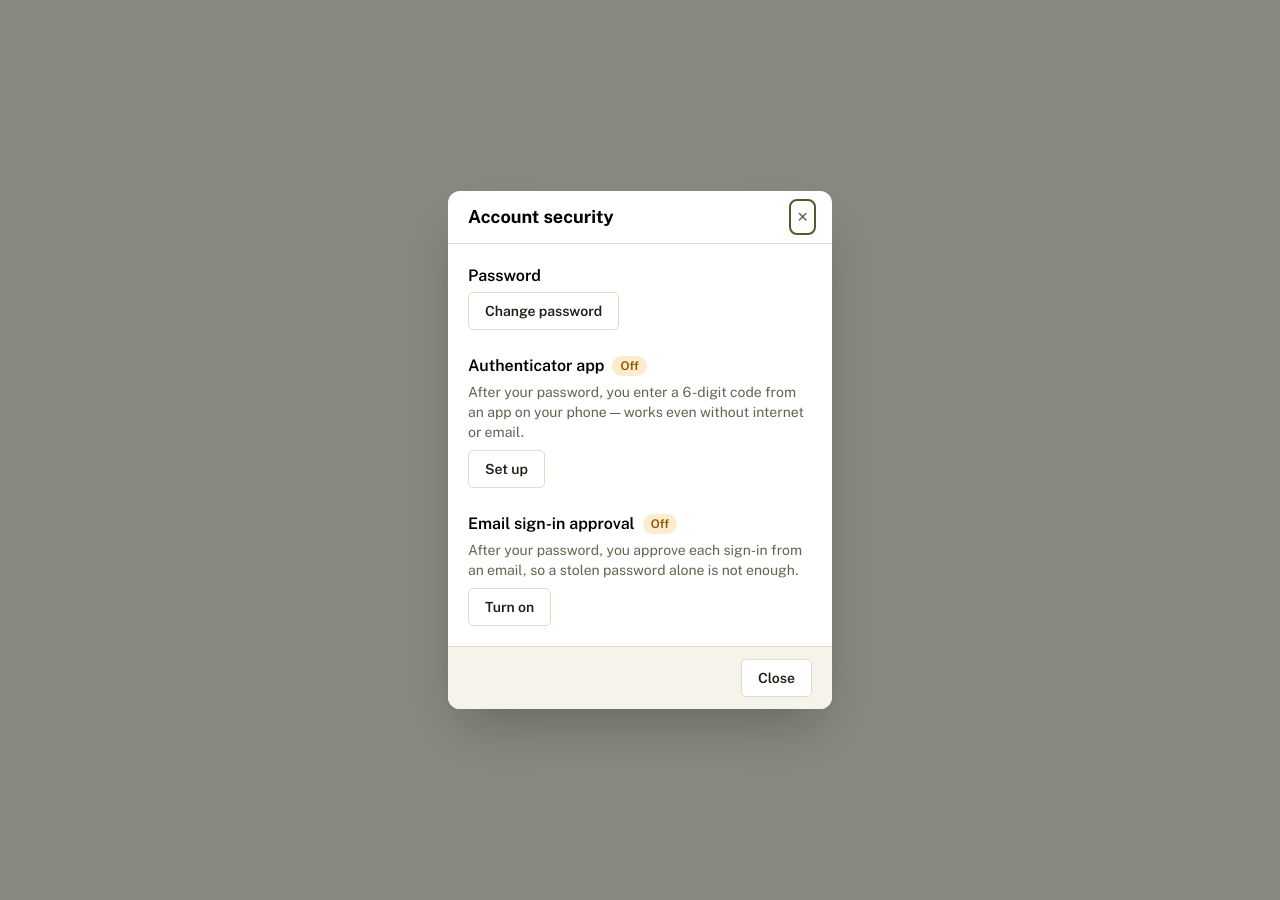
Test: account security › sets up the authenticator app: shows the key, confirms a code, and shows recovery codes once
The image size is (1280, 900).
Later steps or results of the test are not shown.
Click the button "Set up" at (506, 469), box [468,450,545,488]
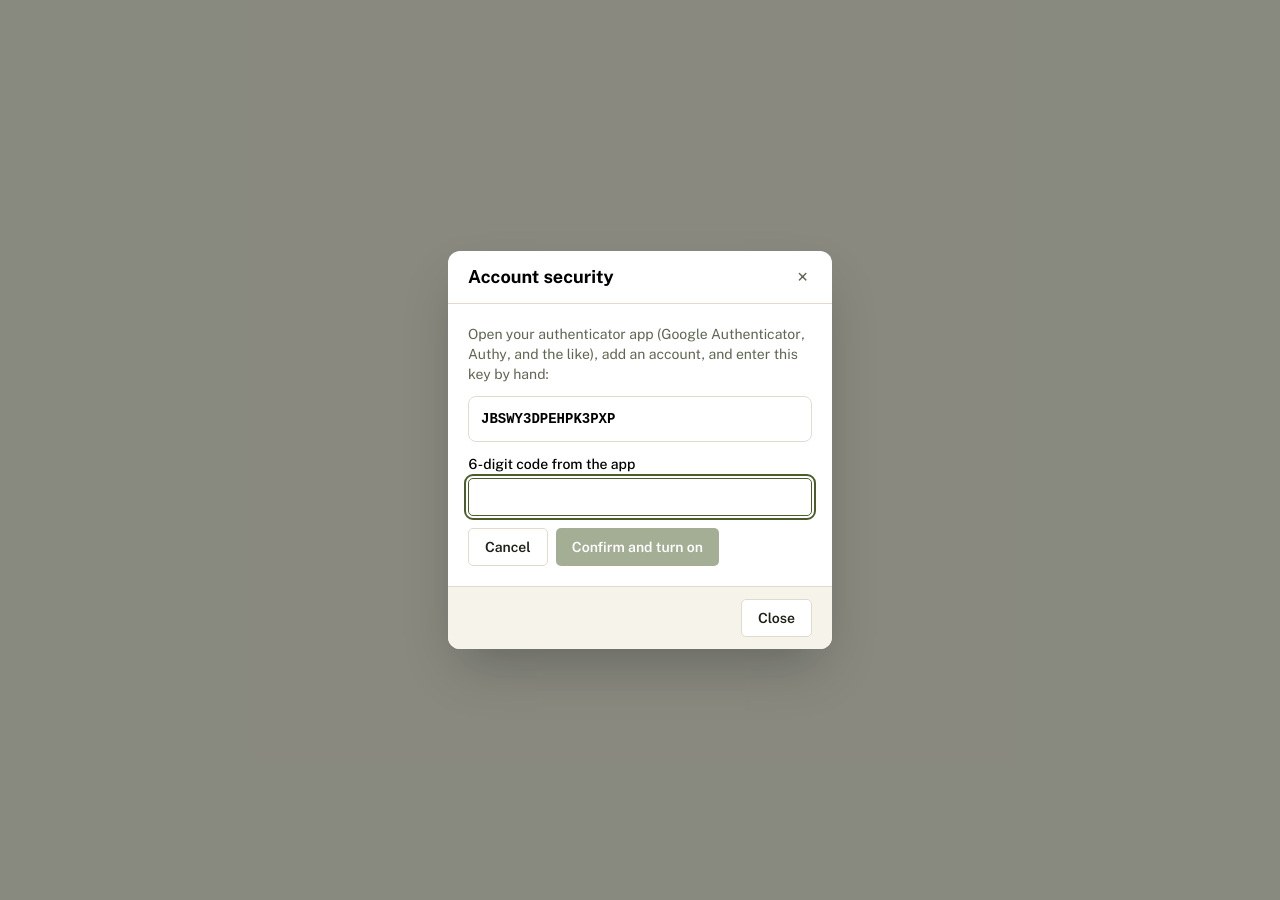
Expected: the text "JBSWY3DPEHPK3PXP" is shown, [481,411,615,427]
Type "123456" into the field labelled "6-digit code from the app" at (640, 497), box [468,478,812,516]
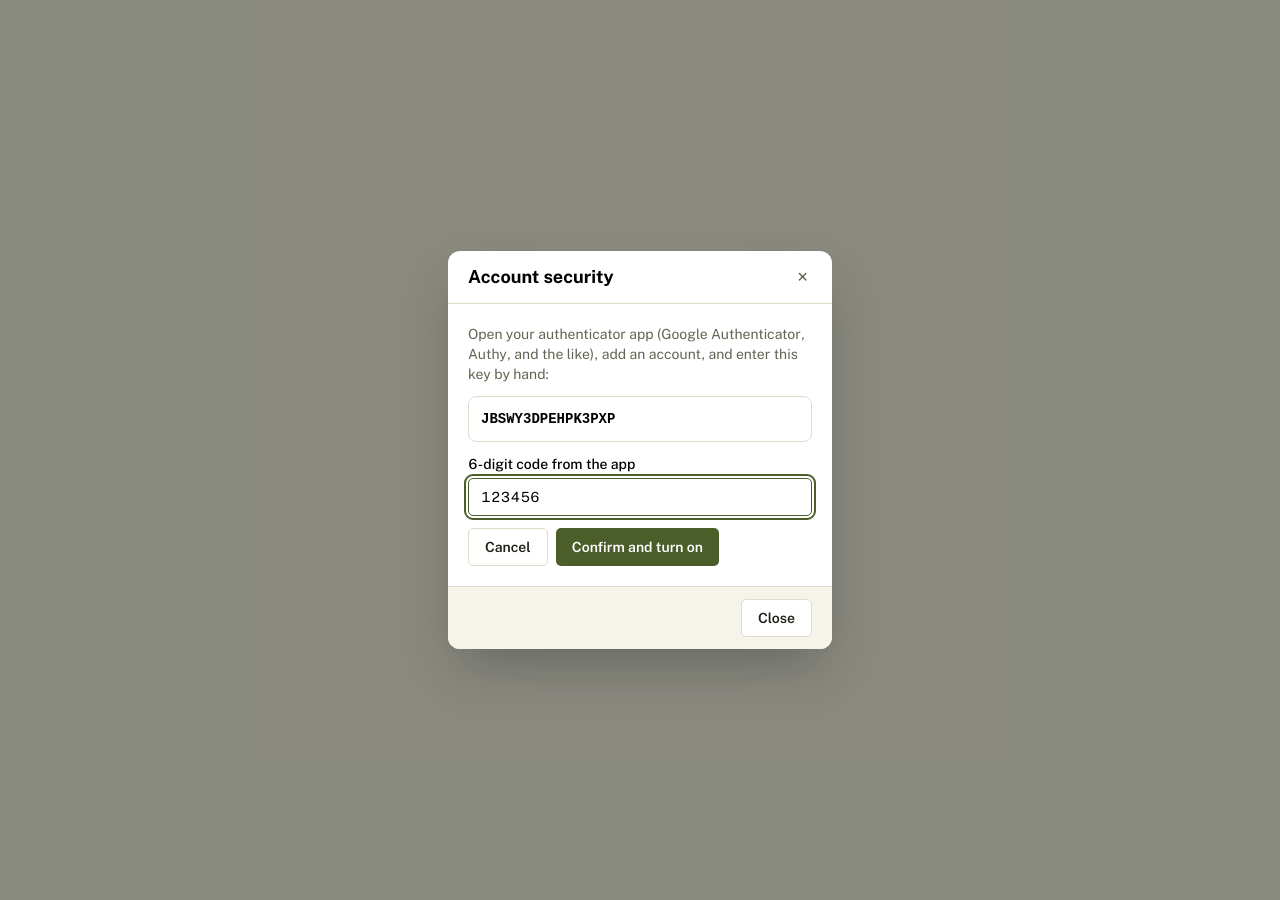
Click the button "Confirm and turn on" at (637, 547), box [556,528,719,566]
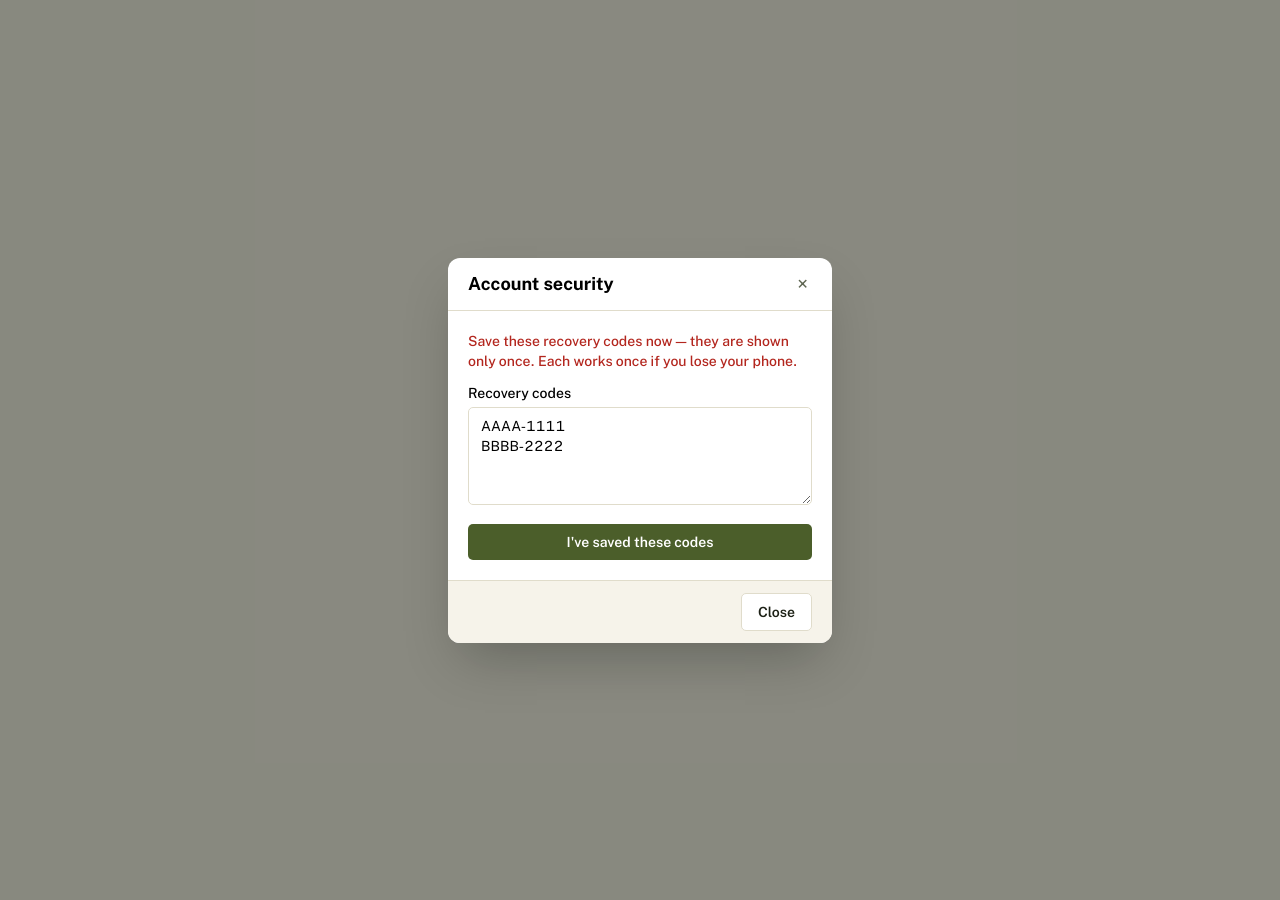
Expected: the text "shown only once" is shown, [468,332,797,368]
